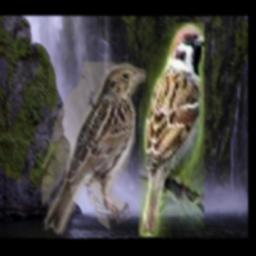Sparrow: (42, 63, 146, 236), (140, 23, 205, 237)
